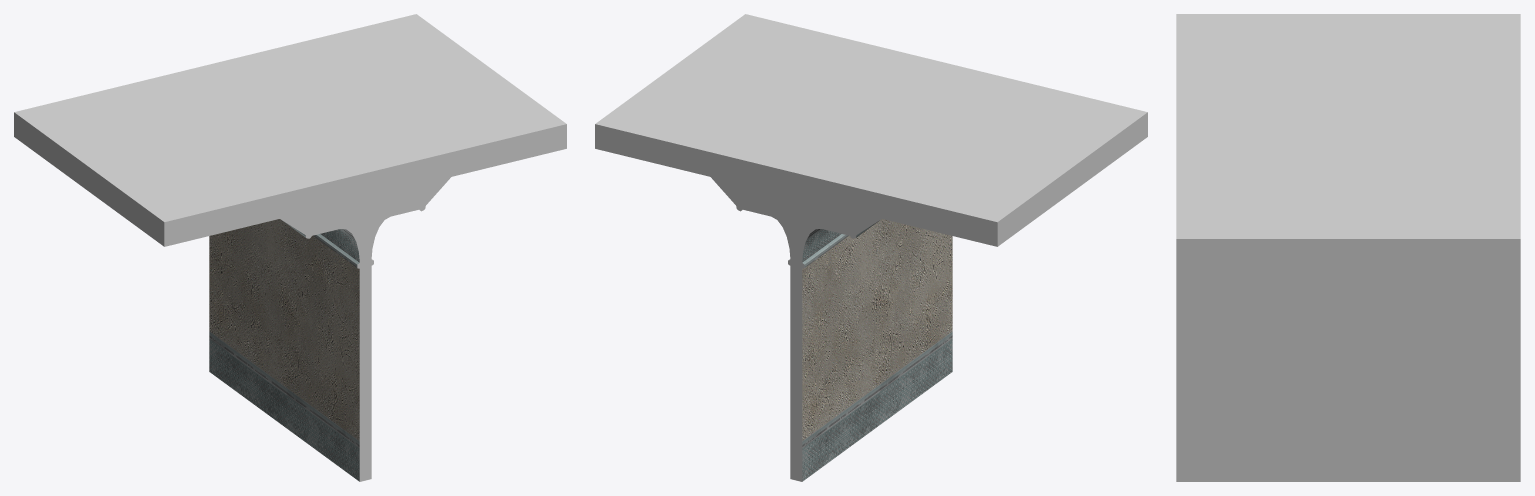
File: Wall_Plain.fbx
3 renders of one model, left to right at view 1: azimuth 30°, elevation 25°; view 2: azimuth 150°, elevation 25°; view 3: azimuth 270°, elevation 25°, orthographic. The views are drawn at different scales.
Parts seen in each view (by area): view 1: Wall_Plain; view 2: Wall_Plain; view 3: Wall_Plain.
Boxes of the visible parts, left/top/right/bottom form: Wall_Plain: left=14, top=14, right=566, bottom=481; Wall_Plain: left=595, top=14, right=1147, bottom=481; Wall_Plain: left=1176, top=14, right=1520, bottom=481.
Size of the model in its own units: 618 by 451 by 400.
4 materials, 3 textured.
